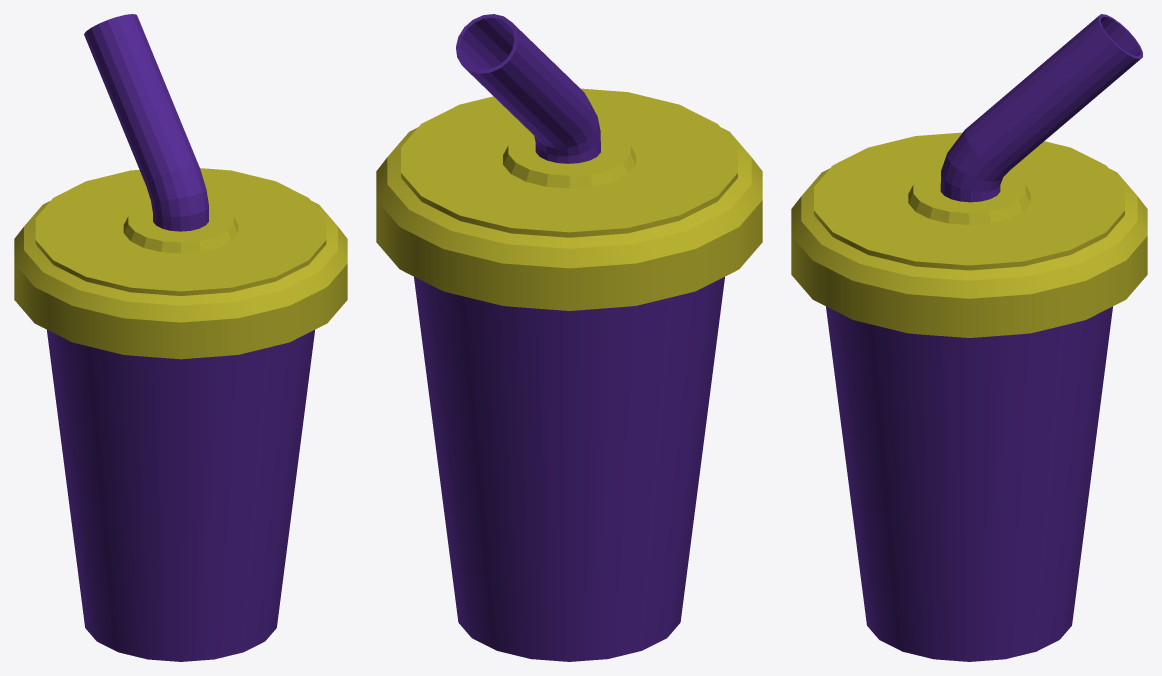
File: 狂暴瓶.FBX
3 views of the same model, side by side, from view 1: azimuth 30°, elevation 25°; view 2: azimuth 150°, elevation 25°; view 3: azimuth 270°, elevation 25° (orthographic). The views are drawn at different scales.
Parts seen in each view (by area): view 1: 对象001, Cylinder001; view 2: 对象001, Cylinder001; view 3: 对象001, Cylinder001.
Boxes of the visible parts, x1,y1,x2,y2 form: 对象001: (47, 14, 314, 661); Cylinder001: (14, 168, 347, 359); 对象001: (414, 14, 724, 661); Cylinder001: (376, 88, 762, 310); 对象001: (826, 14, 1142, 661); Cylinder001: (791, 132, 1147, 337).
Bounding box in the file's own units: 38.49 × 70.42 × 37.9.
